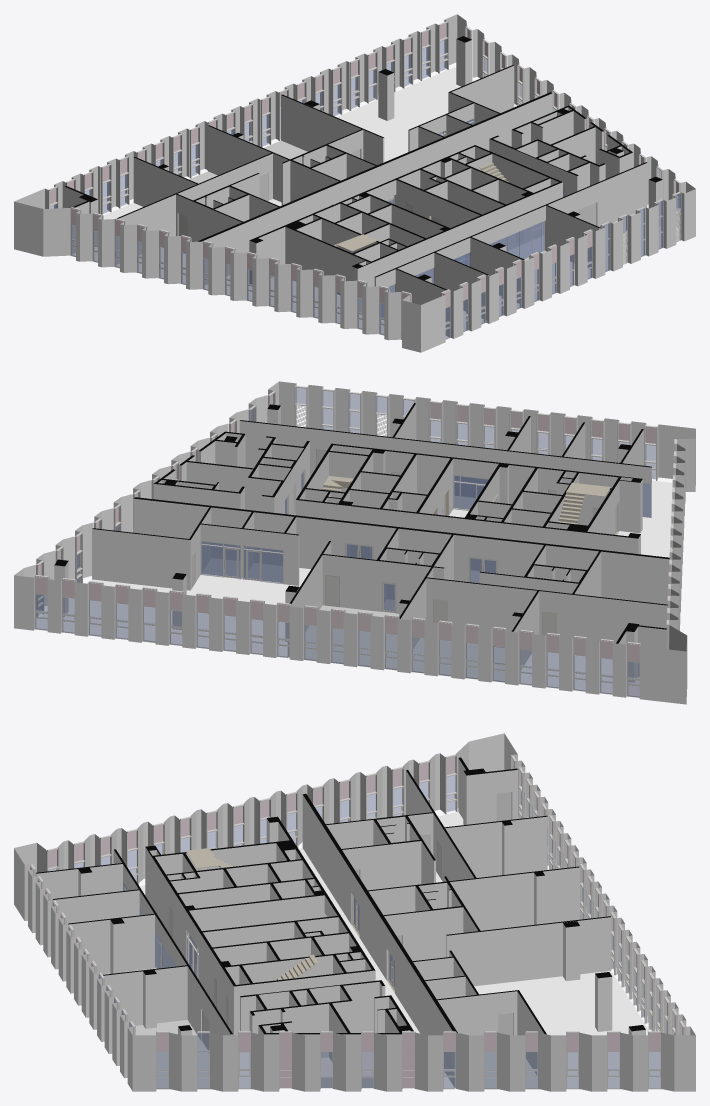
3 renders of one model, top to bottom at view 1: azimuth 30°, elevation 25°; view 2: azimuth 150°, elevation 25°; view 3: azimuth 270°, elevation 25°, orthographic. The views are drawn at different scales.
Visible parts, largest first — view 1: A7_16F_Wall001, A7_16F_Exterior001, A7_16F_Windows001, A7_16F_WindowFrame001, A7_16F_Floor001, A7_16F_Door001, A7_16F_Glass001, A7_16F_Stairs001; view 2: A7_16F_Wall001, A7_16F_Exterior001, A7_16F_Windows001, A7_16F_Floor001, A7_16F_WindowFrame001, A7_16F_Door001, A7_16F_Stairs001, A7_16F_AutoDoor001, A7_16F_Glass001; view 3: A7_16F_Wall001, A7_16F_Exterior001, A7_16F_Windows001, A7_16F_WindowFrame001, A7_16F_Floor001, A7_16F_Door001, A7_16F_Stairs001.
Part boxes in pixels (x1,y1,x2,y2): A7_16F_Wall001: (64, 36, 662, 336); A7_16F_Exterior001: (14, 14, 695, 352); A7_16F_Windows001: (49, 23, 680, 339); A7_16F_WindowFrame001: (47, 21, 681, 339); A7_16F_Floor001: (71, 67, 678, 339); A7_16F_Door001: (68, 118, 596, 276); A7_16F_Glass001: (381, 221, 544, 317); A7_16F_Stairs001: (323, 162, 508, 251); A7_16F_Wall001: (54, 403, 669, 682); A7_16F_Exterior001: (14, 381, 695, 704); A7_16F_Windows001: (35, 387, 677, 697); A7_16F_Floor001: (35, 480, 672, 697); A7_16F_WindowFrame001: (35, 385, 676, 696); A7_16F_Door001: (192, 449, 617, 635); A7_16F_Stairs001: (322, 476, 610, 524); A7_16F_AutoDoor001: (285, 471, 488, 514); A7_16F_Glass001: (455, 476, 651, 517); A7_16F_Wall001: (36, 757, 645, 1087); A7_16F_Exterior001: (14, 733, 695, 1091); A7_16F_Windows001: (30, 756, 682, 1088); A7_16F_WindowFrame001: (30, 754, 685, 1088); A7_16F_Floor001: (102, 811, 661, 1089); A7_16F_Door001: (125, 792, 513, 1049); A7_16F_Stairs001: (185, 848, 319, 980).
Bounding box in the file's own units: 48.28 × 4.38 × 46.07.
